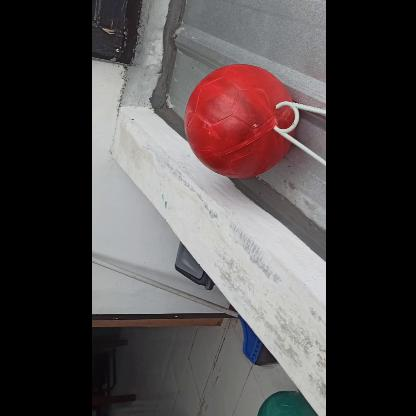red_ball: (183, 64, 294, 176)
